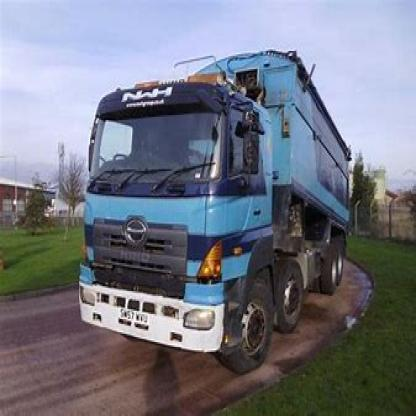dump_truck: (61, 37, 372, 372)
